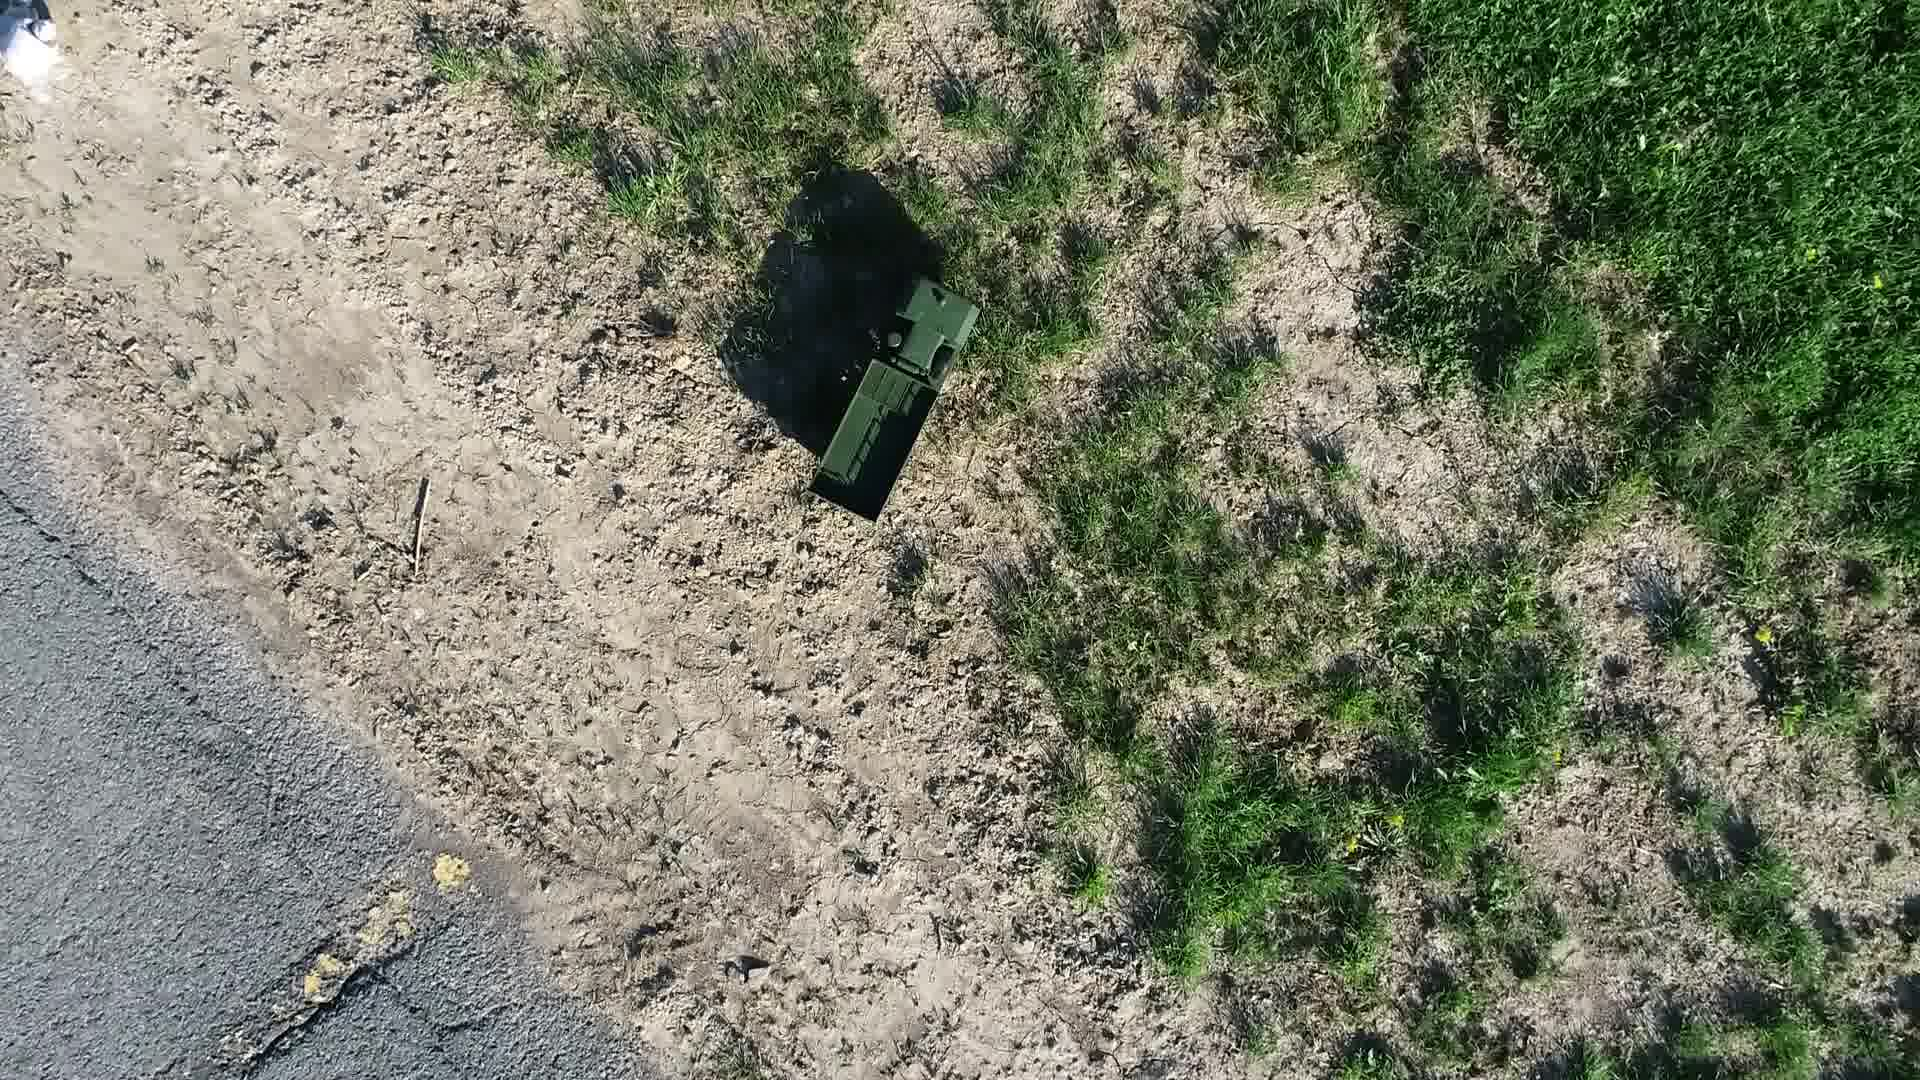transporter9: (774, 266, 1005, 539)
